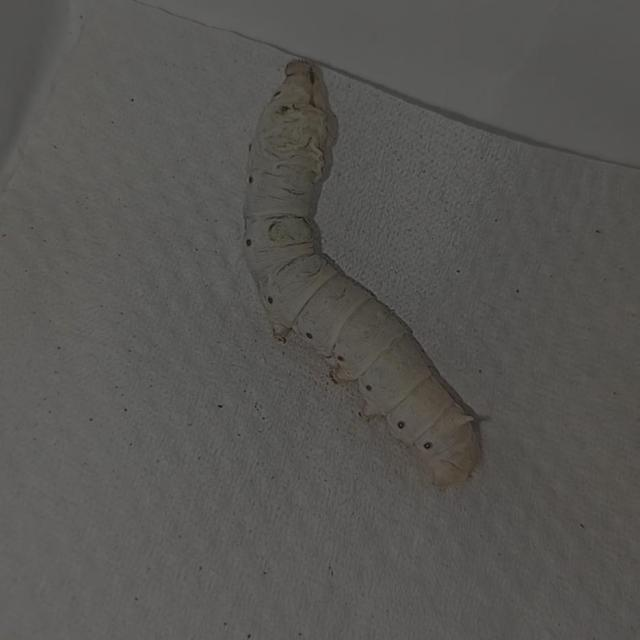Healthy: (214, 23, 516, 510)
